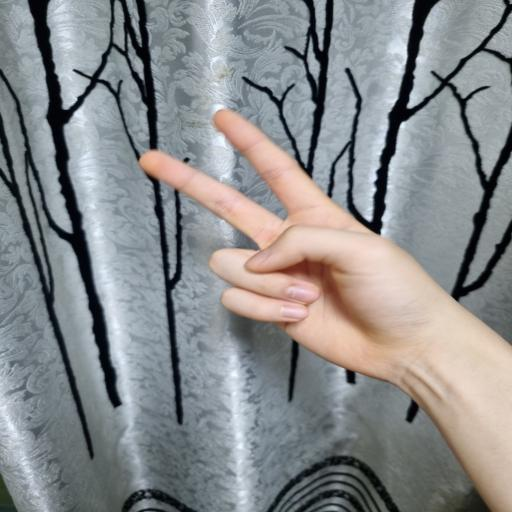Scissors: (140, 109, 451, 383)
